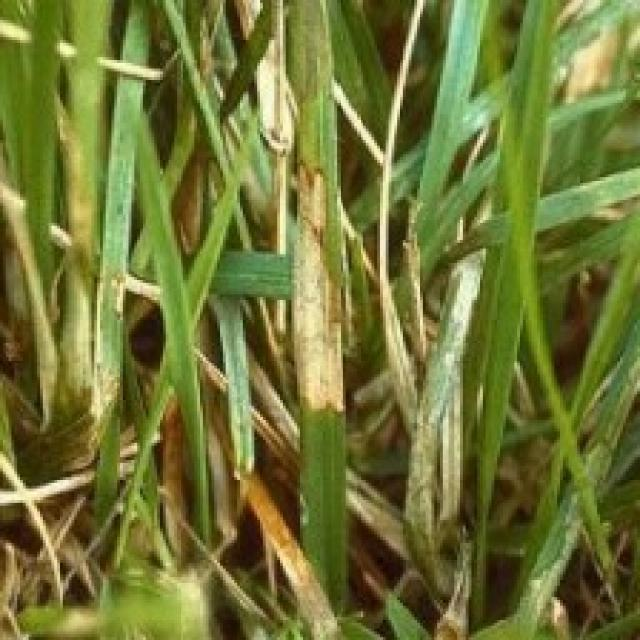Bacterial_Blight: (224, 464, 348, 640), (286, 152, 353, 440), (427, 538, 491, 640), (396, 392, 436, 552), (438, 372, 472, 526), (87, 341, 124, 432), (106, 246, 137, 329), (536, 597, 588, 640)
